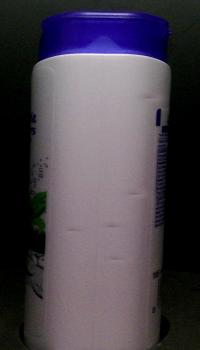dent_marginal: (97, 215, 145, 236), (58, 221, 86, 245), (95, 250, 138, 265), (112, 188, 153, 199), (135, 92, 165, 106)
